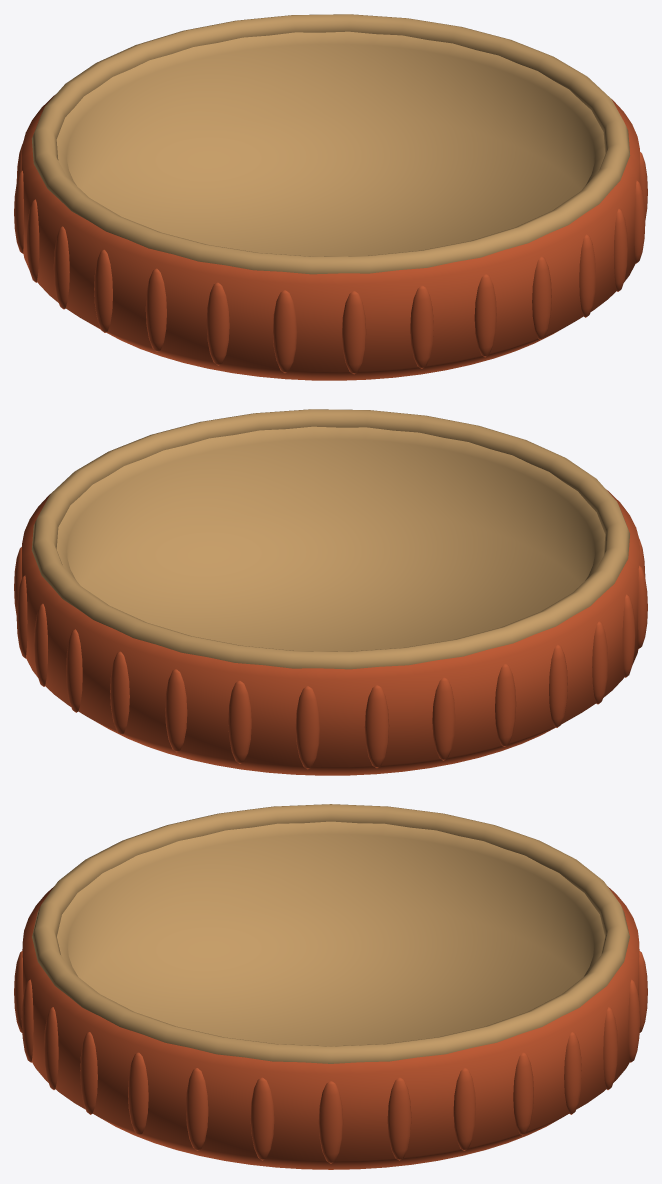
File: giant_bottle_cap.glb
3 renders of one model, top to bottom at view 1: azimuth 30°, elevation 25°; view 2: azimuth 150°, elevation 25°; view 3: azimuth 270°, elevation 25°, orthographic.
Visible parts, largest first — view 1: HollowCap, RolledRim, GripRib_19, GripRib_18, GripRib_20, GripRib_17, GripRib_21, GripRib_16, GripRib_22, GripRib_15, GripRib_23, GripRib_14 (+4 smaller); view 2: HollowCap, RolledRim, GripRib_09, GripRib_10, GripRib_08, GripRib_11, GripRib_07, GripRib_12, GripRib_06, GripRib_13, GripRib_05, GripRib_14 (+4 smaller); view 3: HollowCap, RolledRim, GripRib_00, GripRib_01, GripRib_27, GripRib_02, GripRib_26, GripRib_03, GripRib_25, GripRib_04, GripRib_24, GripRib_05 (+5 smaller).
Boxes of the visible parts, x1=… form: HollowCap: x1=22, y1=31, x2=639, y2=380; RolledRim: x1=32, y1=14, x2=630, y2=274; GripRib_19: x1=342, y1=291, x2=366, y2=374; GripRib_18: x1=272, y1=290, x2=297, y2=372; GripRib_20: x1=410, y1=285, x2=433, y2=368; GripRib_17: x1=206, y1=282, x2=229, y2=365; GripRib_21: x1=474, y1=274, x2=496, y2=357; GripRib_16: x1=145, y1=268, x2=166, y2=351; GripRib_22: x1=532, y1=256, x2=551, y2=339; GripRib_15: x1=94, y1=249, x2=112, y2=332; GripRib_23: x1=579, y1=234, x2=595, y2=317; GripRib_14: x1=53, y1=226, x2=69, y2=309; HollowCap: x1=22, y1=426, x2=639, y2=775; RolledRim: x1=31, y1=409, x2=629, y2=669; GripRib_09: x1=295, y1=686, x2=319, y2=769; GripRib_10: x1=364, y1=685, x2=389, y2=767; GripRib_08: x1=228, y1=680, x2=251, y2=763; GripRib_11: x1=432, y1=677, x2=455, y2=760; GripRib_07: x1=165, y1=669, x2=187, y2=752; GripRib_12: x1=495, y1=663, x2=516, y2=746; GripRib_06: x1=110, y1=651, x2=129, y2=734; GripRib_13: x1=549, y1=644, x2=567, y2=727; GripRib_05: x1=66, y1=629, x2=82, y2=712; GripRib_14: x1=592, y1=621, x2=608, y2=704; HollowCap: x1=22, y1=821, x2=639, y2=1169; RolledRim: x1=32, y1=804, x2=629, y2=1063; GripRib_00: x1=318, y1=1081, x2=343, y2=1163; GripRib_01: x1=387, y1=1077, x2=411, y2=1160; GripRib_27: x1=250, y1=1077, x2=274, y2=1160; GripRib_02: x1=453, y1=1068, x2=475, y2=1150; GripRib_26: x1=186, y1=1068, x2=208, y2=1150; GripRib_03: x1=513, y1=1052, x2=533, y2=1135; GripRib_25: x1=128, y1=1052, x2=148, y2=1135; GripRib_04: x1=564, y1=1032, x2=581, y2=1114; GripRib_24: x1=80, y1=1032, x2=97, y2=1114; GripRib_05: x1=603, y1=1007, x2=617, y2=1089.
Size of the model in its own units: 1.48 by 0.326 by 1.48.
